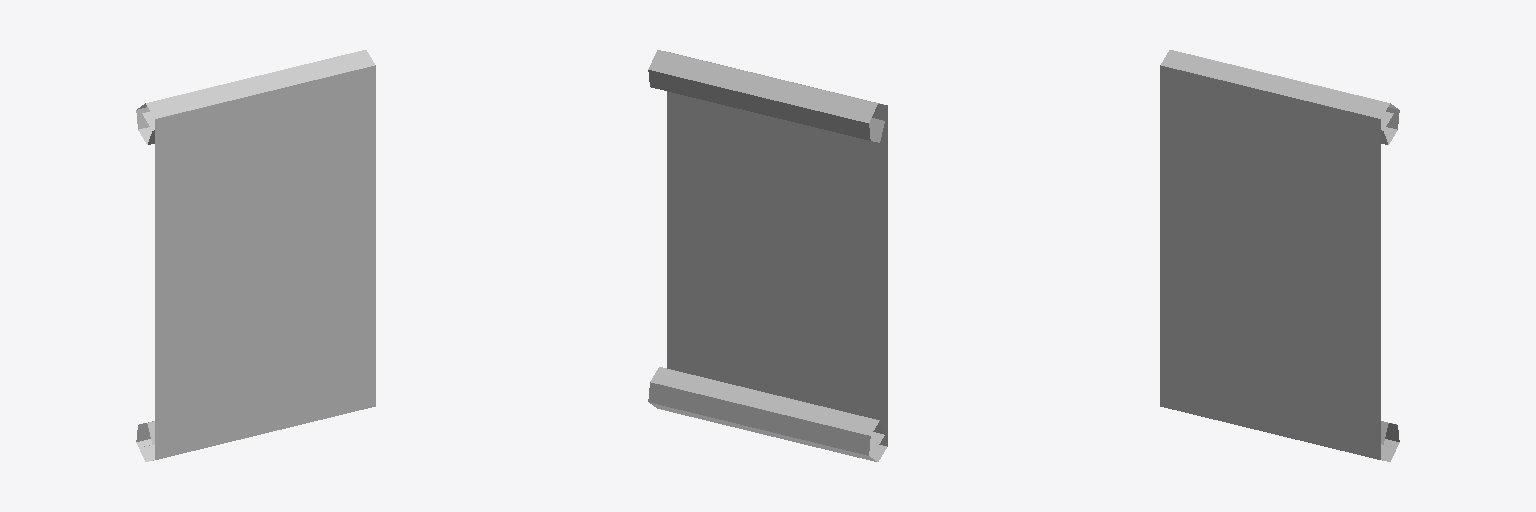
File: Parchemin.obj
The picture shows the model from 3 angles: view 1: azimuth 30°, elevation 25°; view 2: azimuth 150°, elevation 25°; view 3: azimuth 330°, elevation 25°; orthographic projection.
Parts seen in each view (by area): view 1: Parchemin; view 2: Parchemin; view 3: Parchemin.
Boxes of the visible parts, x1,y1,x2,y2 form: Parchemin: [136, 50, 375, 461]; Parchemin: [648, 50, 887, 461]; Parchemin: [1160, 50, 1399, 461].
Size of the model in its own units: 68.53 by 106 by 10.06.